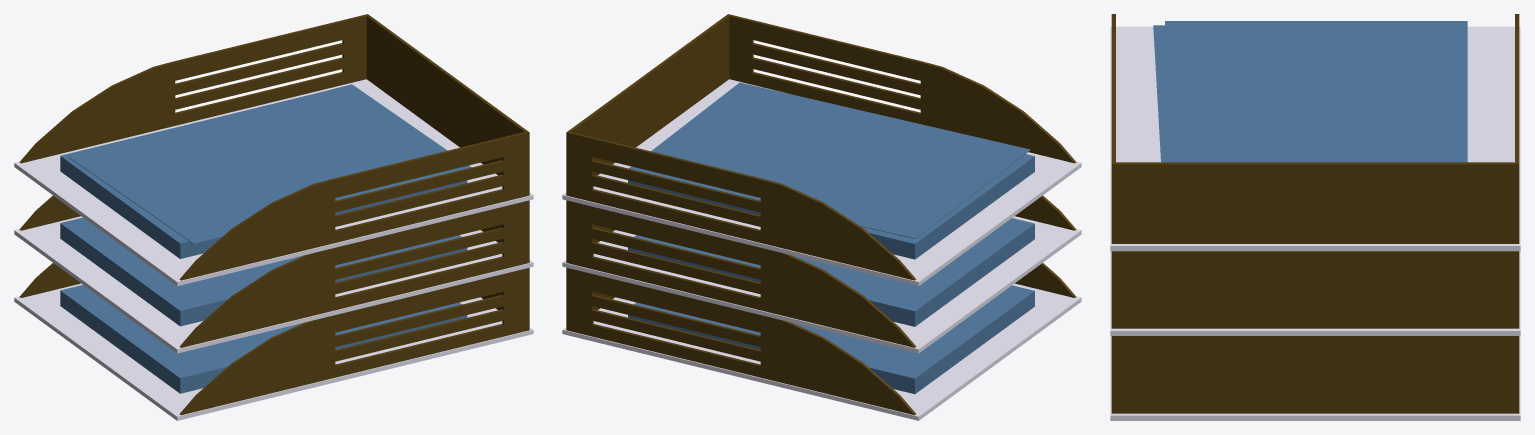
The model's file is OfficeRack.fbx.
The picture shows the model from 3 angles, left to right: view 1: azimuth 30°, elevation 25°; view 2: azimuth 150°, elevation 25°; view 3: azimuth 270°, elevation 25°; orthographic projection. The views are drawn at different scales.
Visible parts, largest first — view 1: Rack; view 2: Rack; view 3: Rack.
Part boxes in pixels (<box>): Rack: <box>14,14,533,420</box>; Rack: <box>562,14,1081,420</box>; Rack: <box>1110,14,1520,420</box>.
Size of the model in its own units: 15.7 by 12.43 by 8.5.
